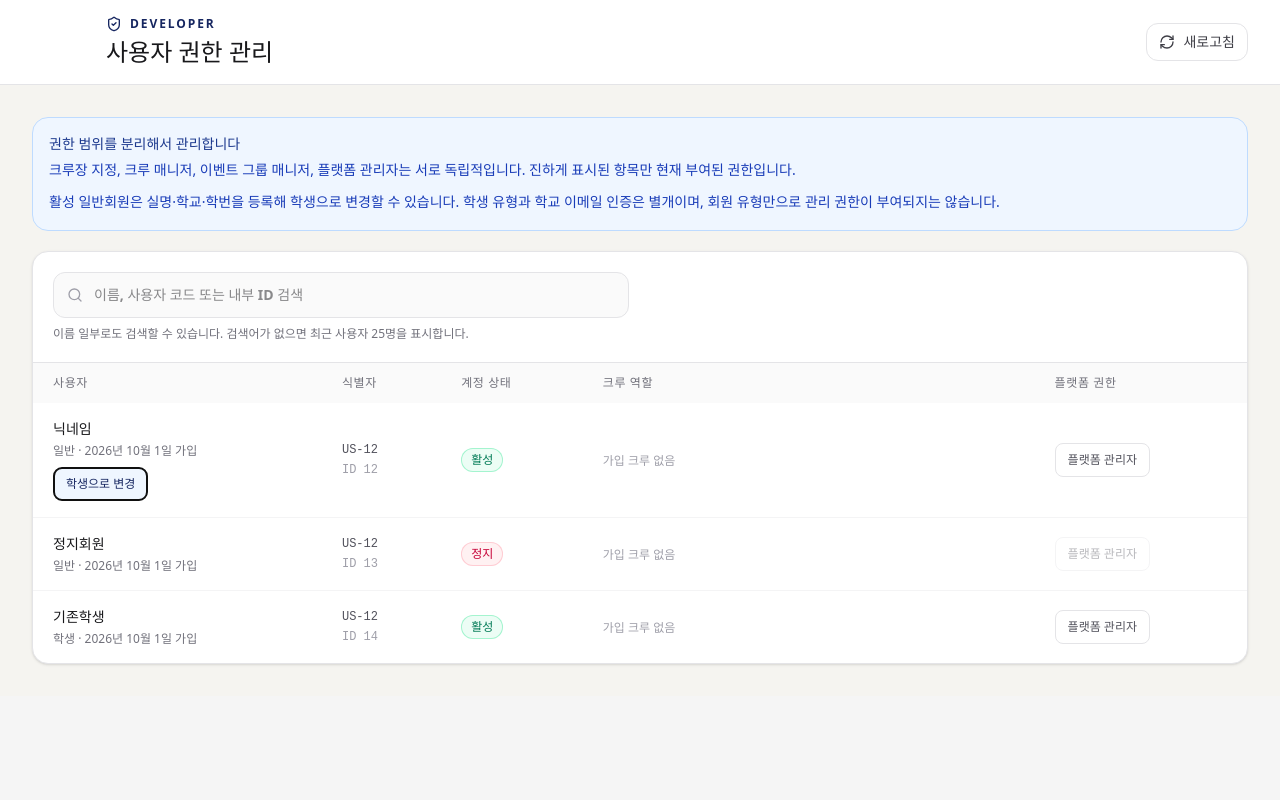
Test: developer student conversion › fails closed on a school-list error and allows retry
Click the button "학생으로 변경": (101, 484) [53,467,148,501]
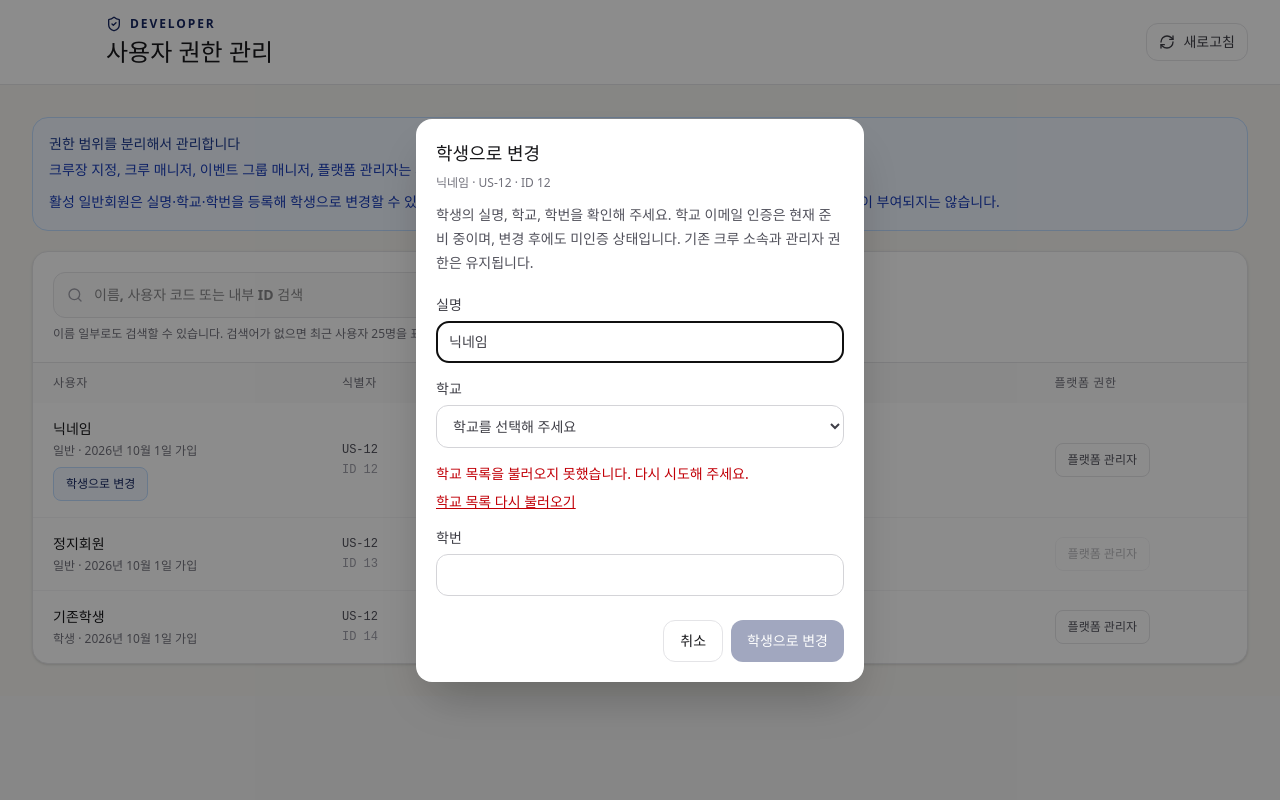
Now the message "학교 목록을 불러오지 못했습니다. 다시 시도해 주세요. 학교 목록 다시 불러오기" is shown, box [436,464,749,512]
Now the submit button is disabled, box [731,620,844,662]
Click the button "학교 목록 다시 불러오기": (506, 502) [436,492,576,512]
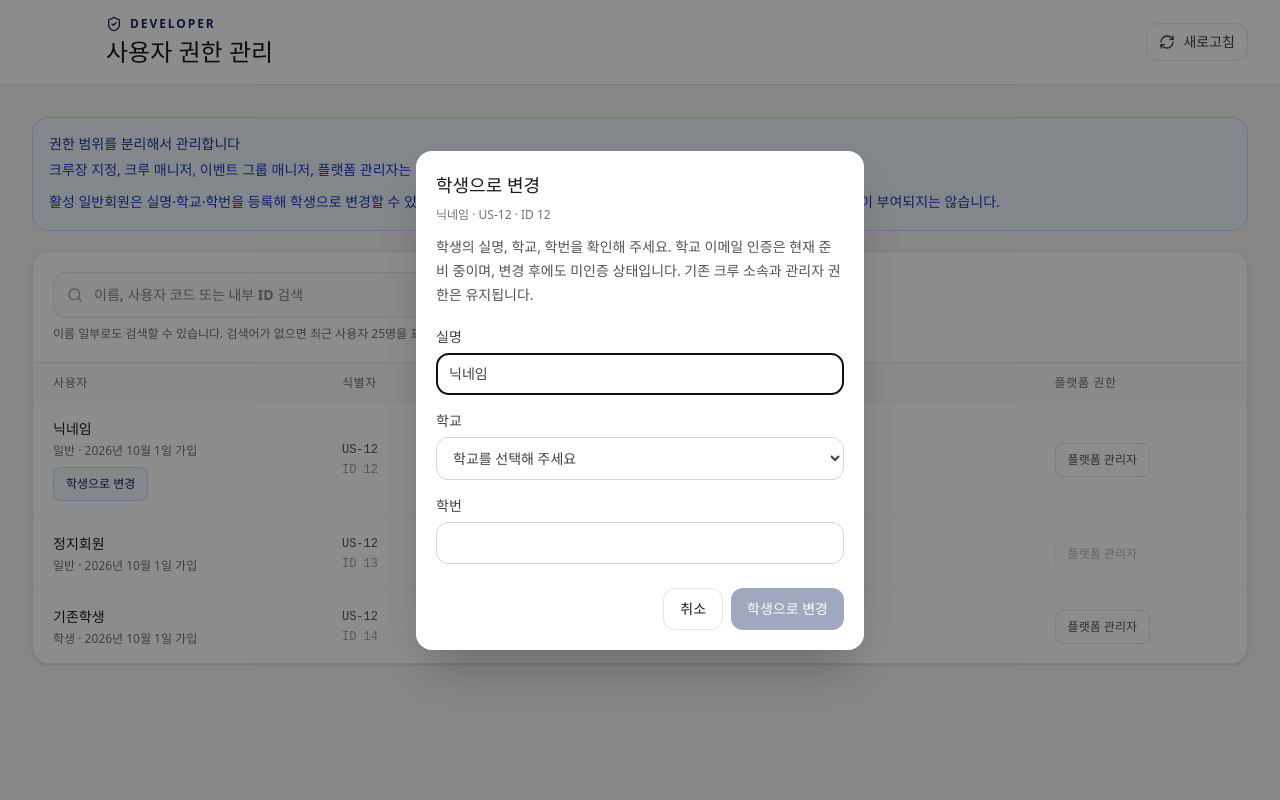
Now the message "학교 목록을 불러오지 못했습니다. 다시 시도해 주세요. 학교 목록 다시 불러오기" is gone
